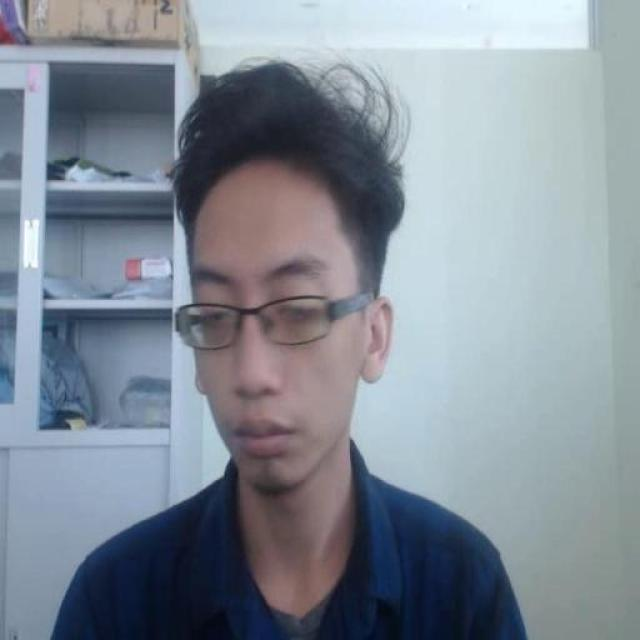bareface: (128, 98, 436, 483)
